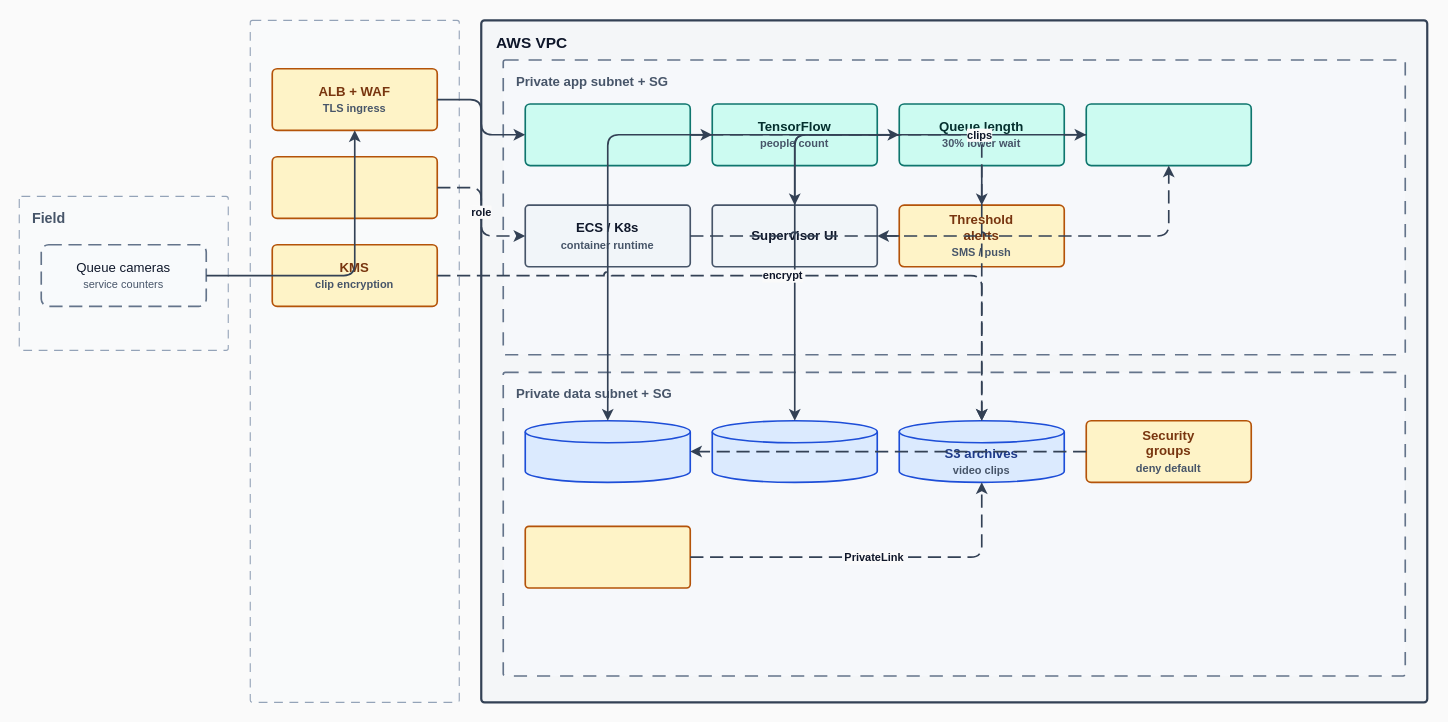
Some shapes in this 1448 by 722 pixel diagram are drawn without their labels. The box of each missing label's shape, as (x1, y1, x2, y2) in pixels:
Django API WebSocket: (1085, 103, 1252, 166)
IAM task roles: (271, 155, 438, 219)
OpenCV frame process: (524, 103, 691, 166)
PostgreSQL analytics: (524, 419, 691, 483)
Public edge: (249, 19, 459, 702)
Redis live cache: (711, 419, 878, 483)
VPC endpoints S3 / ECS: (524, 525, 691, 588)
